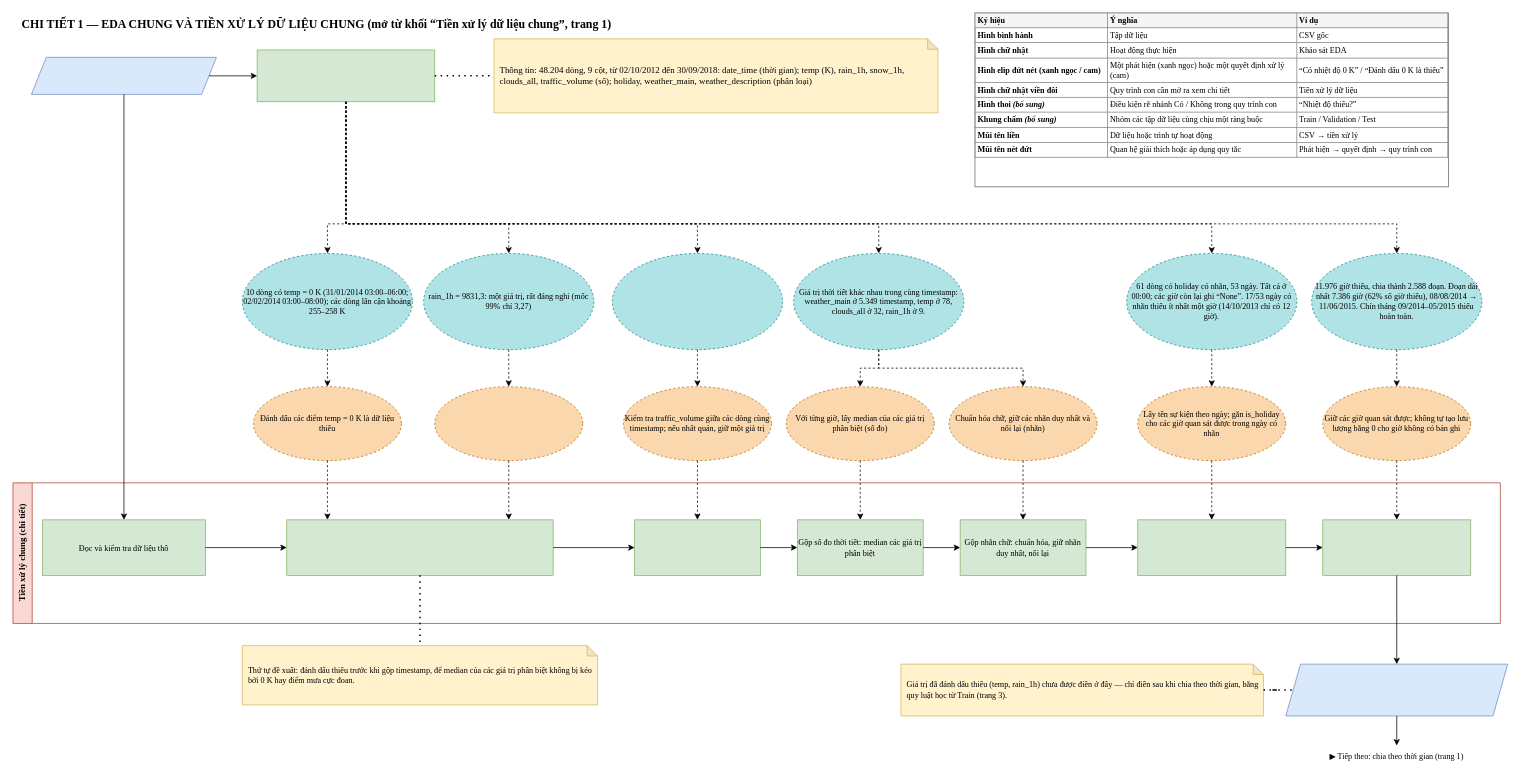
The diagram is 1521 pixels wide and 781 high, and some of its shapes have lost their labels. The shapes that lost their labels are listed below. From the top down, each one's centre as x and y in pixels, then its label:
At (123,75): "CSV dữ liệu giao thông (dữ liệu thô)".
At (345,75): "Kiểm tra và khảo sát dữ liệu (EDA) chung".
At (697,301): "40.575 giờ duy nhất. 5.445 timestamp lặp (13.074 dòng). 17 dòng trùng hoàn toàn.".
At (508,423): "Đánh dấu điểm mưa nghi ngờ là thiếu".
At (419,547): "Đánh dấu giá trị bất thường là thiếu (temp = 0 K; rain_1h nghi ngờ)".
At (697,547): "Gộp traffic_volume: một giá trị cho mỗi timestamp".
At (1211,547): "Gắn tên sự kiện và is_holiday theo ngày có nhãn".
At (1396,547): "Sắp theo thời gian, giữ các giờ quan sát được, không xáo trộn".
At (1396,689): "Bảng dữ liệu sau xử lý theo giờ, không xáo trộn và chưa xử lý điền thiếu".
